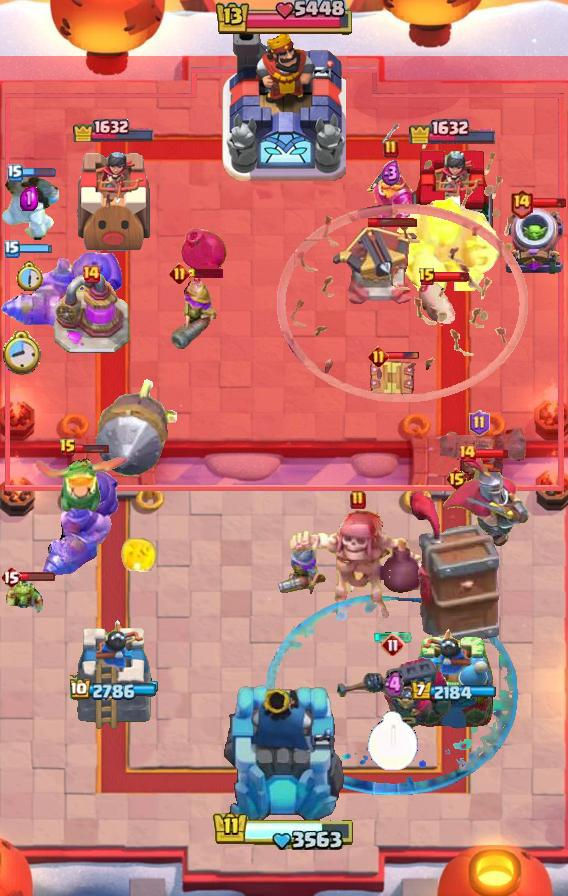archer-evolution: (432, 428, 526, 498)
baby-dragon: (178, 223, 230, 277)
bomb-tower: (166, 275, 222, 353), (268, 537, 328, 597)
clock: (212, 811, 356, 853), (213, 0, 355, 38)
dart-goblin: (409, 490, 503, 650)
electro-giant: (287, 508, 429, 622)
electro-spirit: (383, 671, 405, 701), (381, 160, 401, 187), (20, 185, 38, 210)
electro-wizard: (34, 453, 132, 515)
elixir: (367, 712, 419, 772), (2, 331, 41, 376), (15, 261, 43, 292)
emote: (368, 217, 418, 228), (531, 197, 567, 209), (434, 271, 470, 283), (75, 442, 110, 454), (19, 570, 56, 581), (21, 166, 57, 177), (18, 243, 53, 254), (475, 448, 509, 459), (187, 268, 223, 278), (386, 351, 420, 361)
firecracker-evolution: (367, 164, 417, 222)
giant: (416, 280, 458, 326)
giant-skeleton: (392, 197, 502, 291)
goblin-brawler: (368, 356, 418, 402)
goblin-cage: (503, 207, 567, 277)
ice-spirit: (373, 631, 413, 643)
inferno-tower: (335, 656, 451, 734)
king-tower: (222, 31, 346, 181), (221, 682, 347, 826)
lava-pup: (332, 226, 420, 308)
pad_0: (266, 593, 520, 795)
pekka: (52, 273, 130, 355)
queen-tower: (70, 616, 158, 731), (71, 144, 157, 255), (410, 144, 496, 255), (411, 627, 495, 731)
rage: (0, 174, 66, 244)
selected: (408, 116, 498, 144), (72, 116, 156, 142), (69, 678, 158, 701), (410, 681, 496, 703)
skeleton-barrel: (276, 122, 529, 402)
text: (509, 189, 534, 220), (381, 633, 405, 657), (445, 467, 468, 491), (469, 410, 490, 436), (0, 565, 22, 589), (367, 345, 389, 366), (169, 264, 190, 285), (81, 264, 101, 284), (457, 443, 477, 463), (418, 267, 436, 287), (59, 438, 77, 458), (383, 139, 399, 159), (350, 490, 366, 510), (7, 164, 23, 182), (4, 240, 20, 258)
valkyrie: (117, 535, 161, 581)
wall-breaker-evolution: (438, 449, 530, 549)
wizard: (0, 251, 124, 329), (40, 465, 122, 579)
x-bow: (95, 379, 185, 478)
zap: (5, 576, 43, 620)
